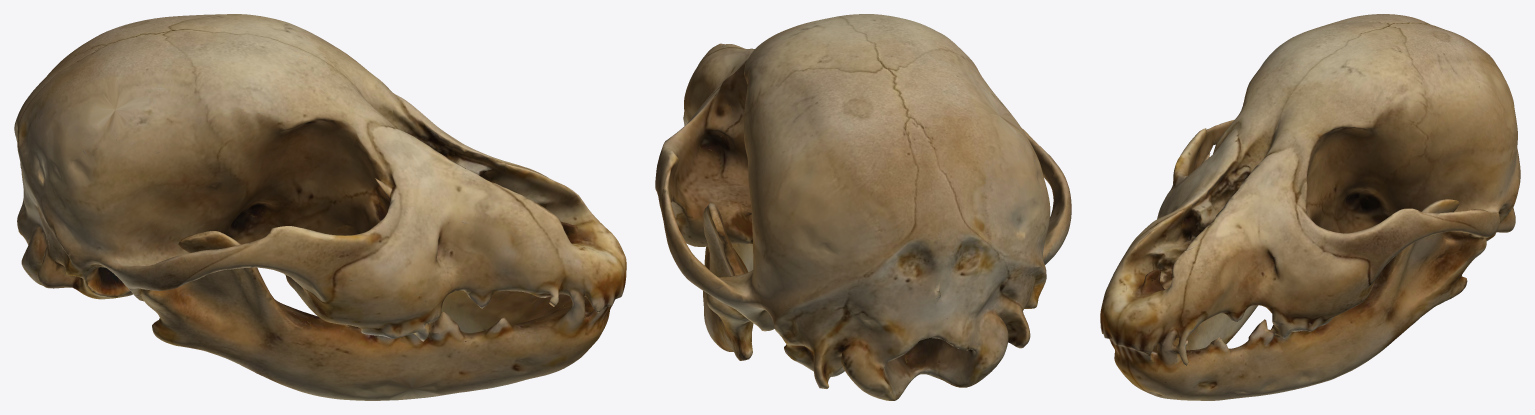
The model's file is chiot_puppy_skull.glb.
3 renders of one model, left to right at view 1: azimuth 30°, elevation 25°; view 2: azimuth 150°, elevation 25°; view 3: azimuth 270°, elevation 25°, orthographic. The views are drawn at different scales.
Parts seen in each view (by area): view 1: chiot_1; view 2: chiot_1; view 3: chiot_1.
Boxes of the visible parts, box(x1,y1,x2,y2) form: chiot_1: box(14, 14, 626, 400); chiot_1: box(655, 14, 1071, 400); chiot_1: box(1100, 14, 1520, 400).
Bounding box in the file's own units: 3.34 × 2.35 × 3.15.
Materials: 1 (1 with a texture image).
